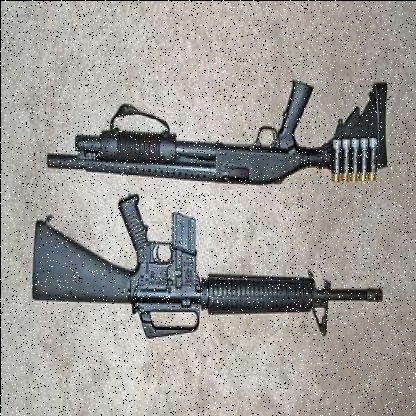rifle: (41, 34, 374, 214), (19, 187, 378, 351)
